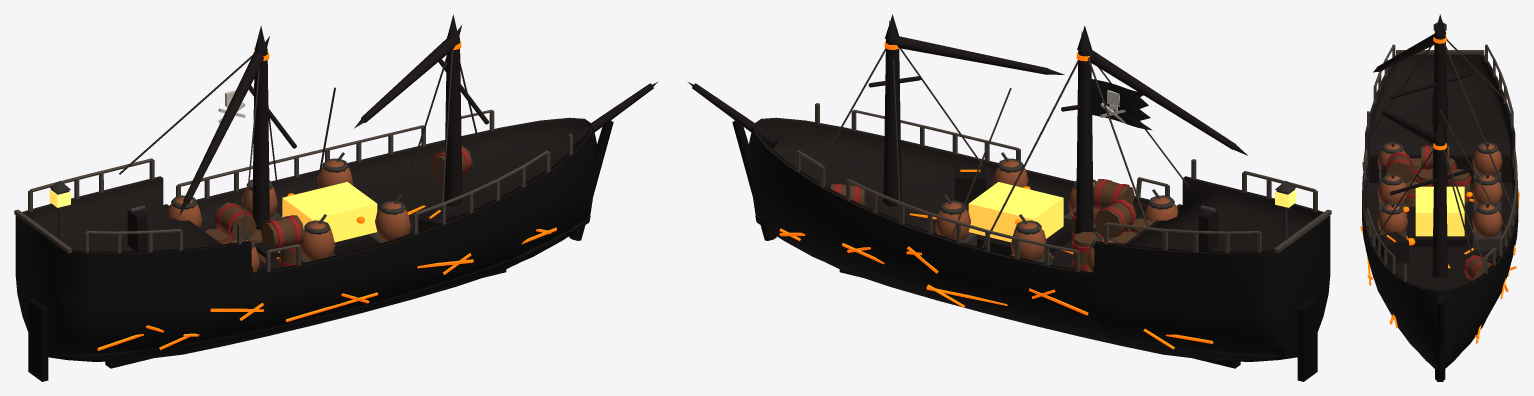
The model's file is fire-ship-6-firepots.glb.
3 views of the same model, side by side, from view 1: azimuth 30°, elevation 25°; view 2: azimuth 150°, elevation 25°; view 3: azimuth 270°, elevation 25° (orthographic). The views are drawn at different scales.
Parts seen in each view (by area): view 1: Mesh_Hull, Mesh_DeckAndBulwarks, Mesh_FireCore, Mesh_MainMastStump, Mesh_ForeMastStump, Mesh_MainMastFallen, Mesh_Rudder, Mesh_HullLower, Mesh_ForeMastFallen, Mesh_FirePot_5, Mesh_FirePot_3, Mesh_Barrel6 (+6 smaller); view 2: Mesh_Hull, Mesh_DeckAndBulwarks, Mesh_FireCore, Mesh_MainMastStump, Mesh_ForeMastStump, Mesh_MainMastFallen, Mesh_Flag_Tattered, Mesh_Rudder, Mesh_ForeMastFallen, Mesh_HullLower, Mesh_Crate, Mesh_HatchRim (+9 smaller); view 3: Mesh_DeckAndBulwarks, Mesh_Hull, Mesh_ForeMastStump, Mesh_FireCore, Mesh_MainMastStump, Mesh_HatchRim, Mesh_QuarterBulkhead, Mesh_Crate, Mesh_FirePot_4, Mesh_FirePot_0, Mesh_FirePot_2, Mesh_FirePot_5 (+28 smaller).
Part boxes in pixels (x1,y1,x2,y2): Mesh_Hull: [15, 125, 597, 360]; Mesh_DeckAndBulwarks: [22, 117, 592, 275]; Mesh_FireCore: [282, 182, 377, 242]; Mesh_MainMastStump: [252, 47, 269, 229]; Mesh_ForeMastStump: [444, 36, 462, 206]; Mesh_MainMastFallen: [183, 51, 265, 203]; Mesh_Rudder: [28, 298, 48, 381]; Mesh_HullLower: [48, 216, 590, 361]; Mesh_ForeMastFallen: [361, 37, 458, 122]; Mesh_FirePot_5: [375, 202, 410, 241]; Mesh_FirePot_3: [300, 222, 335, 261]; Mesh_Barrel6: [260, 215, 304, 248]; Mesh_Hull: [748, 125, 1330, 360]; Mesh_DeckAndBulwarks: [753, 117, 1323, 275]; Mesh_FireCore: [968, 182, 1063, 242]; Mesh_MainMastStump: [1076, 49, 1093, 233]; Mesh_ForeMastStump: [883, 37, 901, 206]; Mesh_MainMastFallen: [1087, 50, 1235, 149]; Mesh_Flag_Tattered: [1091, 78, 1152, 130]; Mesh_Rudder: [1297, 298, 1317, 381]; Mesh_ForeMastFallen: [894, 36, 1048, 74]; Mesh_HullLower: [755, 216, 1297, 361]; Mesh_Crate: [954, 164, 986, 203]; Mesh_HatchRim: [968, 221, 1072, 255]; Mesh_DeckAndBulwarks: [1362, 54, 1518, 290]; Mesh_Hull: [1362, 200, 1518, 373]; Mesh_ForeMastStump: [1432, 139, 1447, 278]; Mesh_FireCore: [1415, 186, 1464, 236]; Mesh_MainMastStump: [1432, 33, 1447, 186]; Mesh_HatchRim: [1407, 206, 1472, 247]; Mesh_QuarterBulkhead: [1369, 154, 1510, 182]; Mesh_Crate: [1375, 231, 1408, 265]; Mesh_FirePot_4: [1472, 204, 1502, 237]; Mesh_FirePot_0: [1472, 144, 1502, 175]; Mesh_FirePot_2: [1472, 175, 1502, 205]; Mesh_FirePot_5: [1377, 204, 1407, 235].
Bounding box in the file's own units: 18.16 × 8.46 × 4.9.
